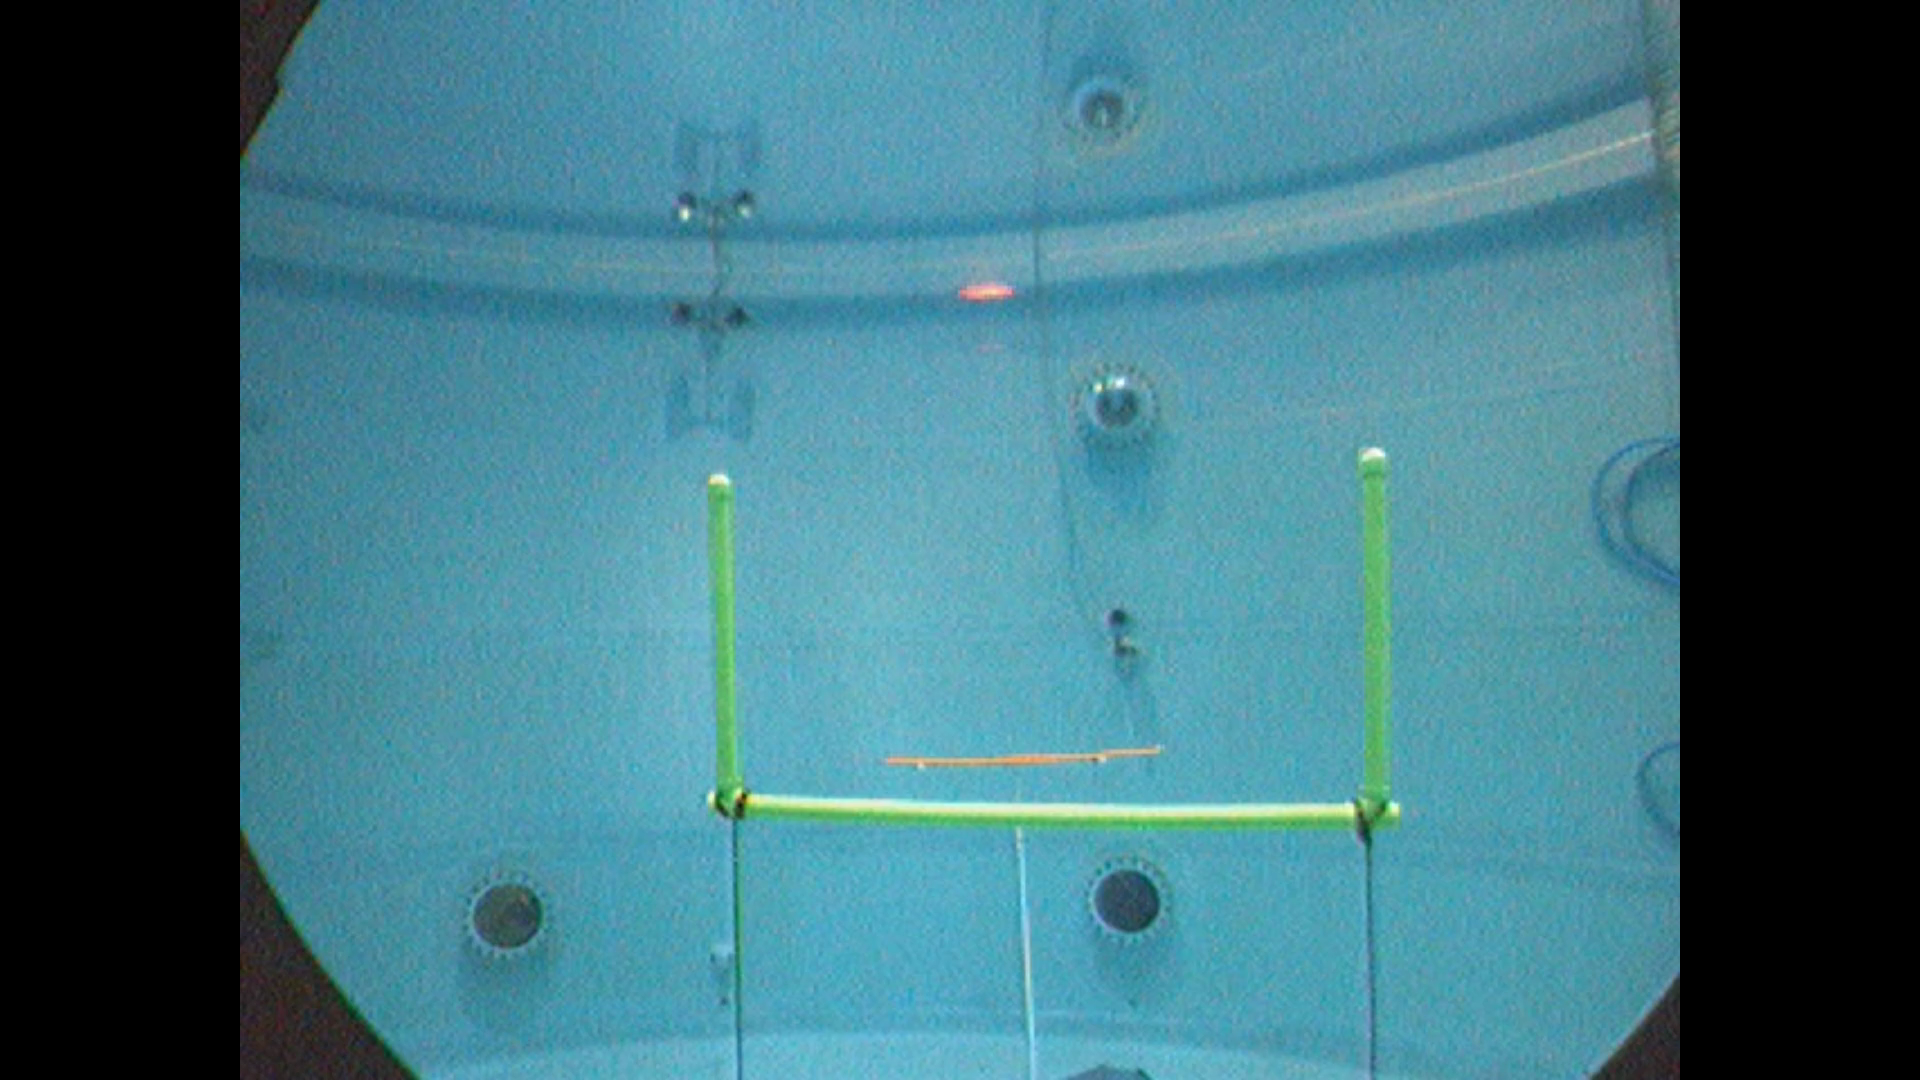gate: (708, 440, 1393, 833)
